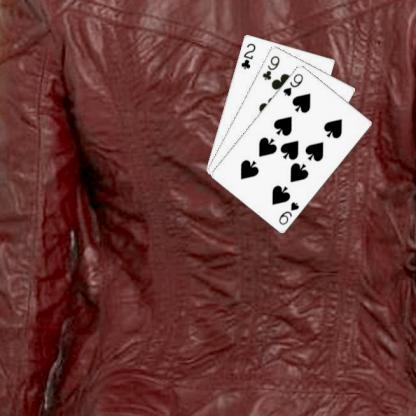2C: (238, 40, 257, 71)
9C: (260, 52, 281, 82)
9S: (276, 198, 300, 226), (280, 71, 305, 97)
